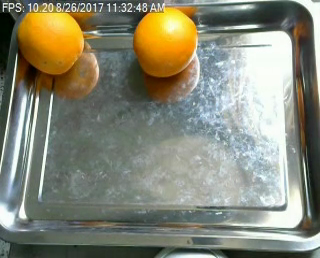Orange: (16, 4, 84, 75), (134, 7, 198, 77)
